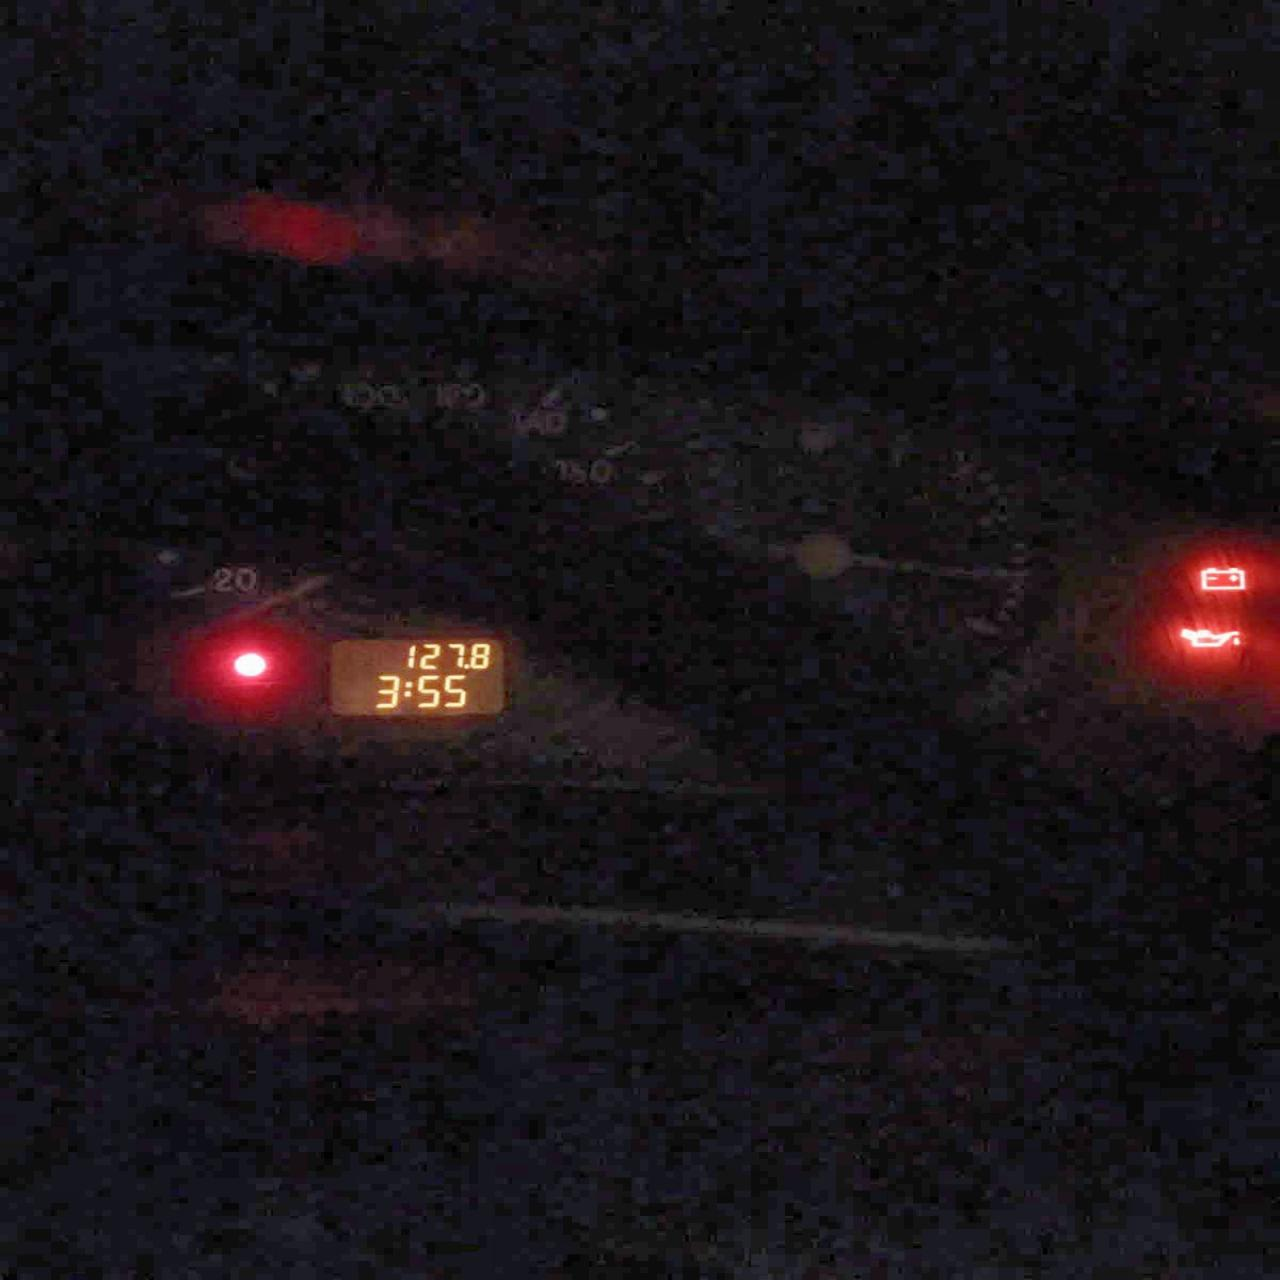-: (462, 662, 469, 669)
1: (406, 645, 416, 669)
2: (418, 642, 441, 669)
3: (374, 674, 400, 709)
5: (443, 674, 468, 708), (416, 674, 440, 708)
7: (445, 642, 465, 669)
8: (468, 642, 490, 669)
X: (402, 680, 413, 697)
odometer: (320, 632, 510, 722)
